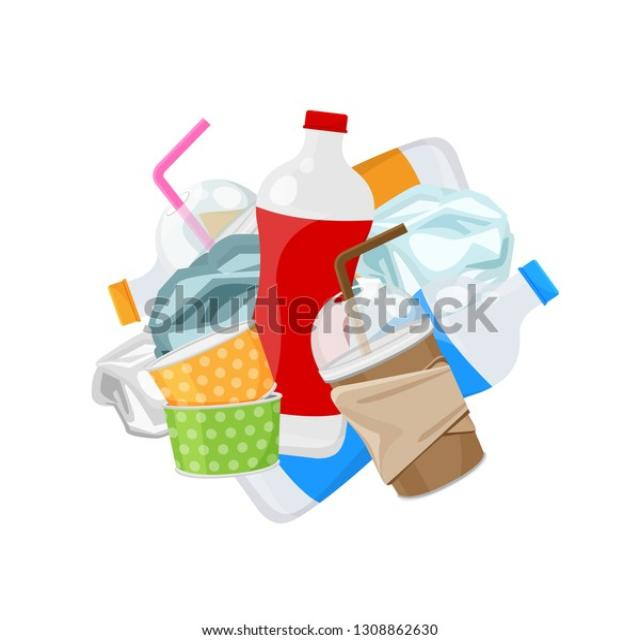plastic: (169, 179, 481, 446)
